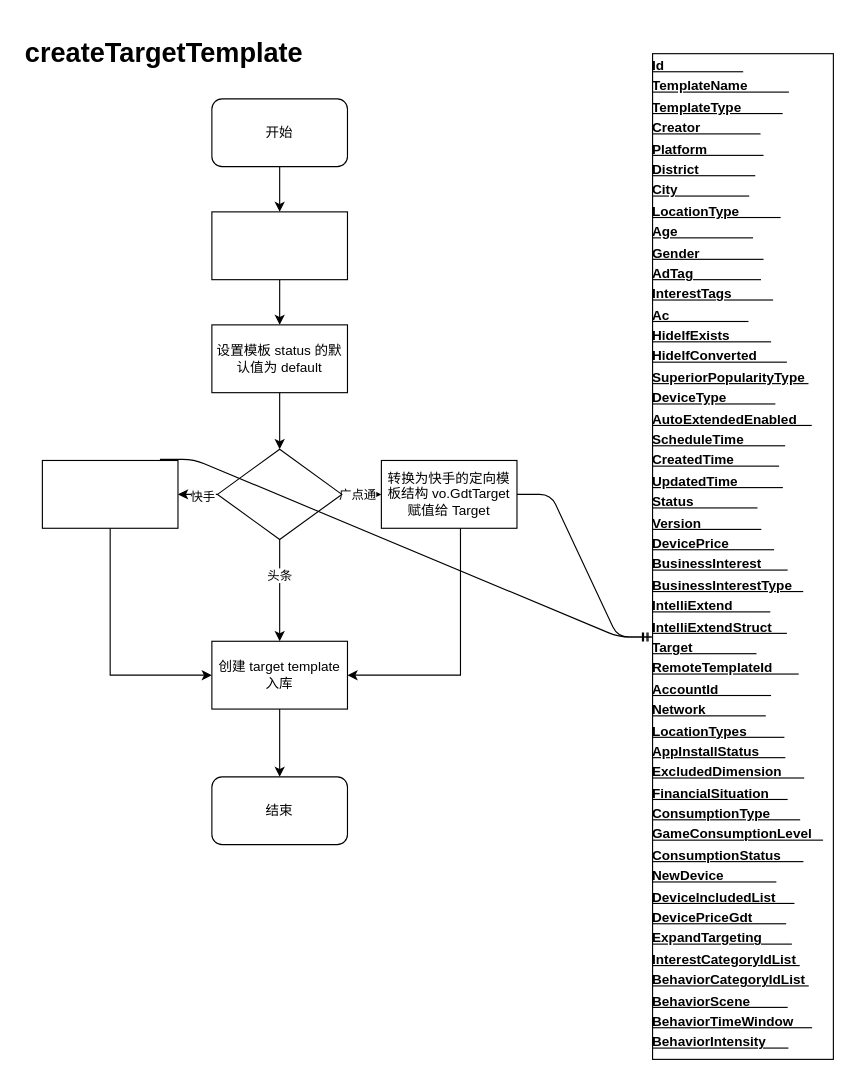
Image size: 853x1089. Some labels were removed from this diagram. The box of each missing label's shape, as (x1, y1, x2, y2) in pixels:
从前端获取传入的struct 信息: (211, 211, 347, 280)
区分平台: (216, 448, 342, 540)
转换为快手的定向模板结构 vo.KuaishouTarget 赋值给 Target: (41, 459, 178, 528)
